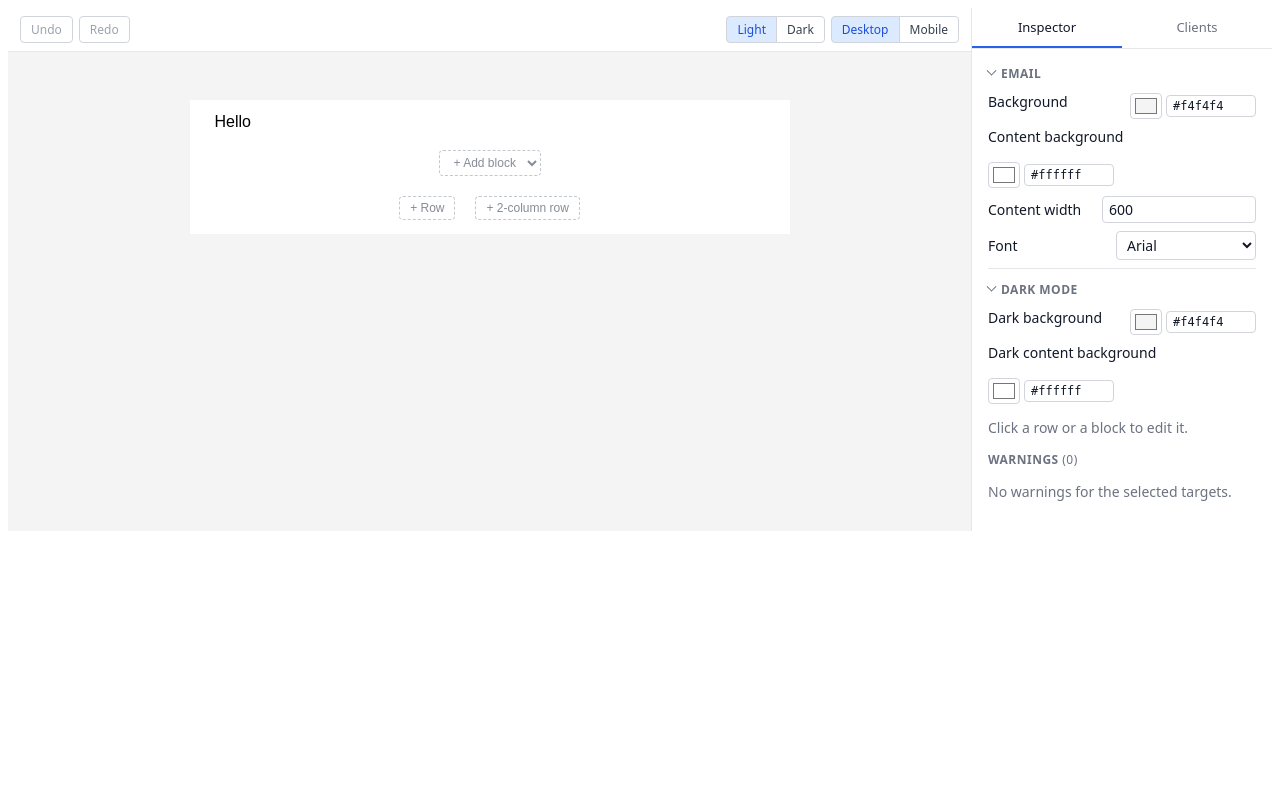
Test: <MailBlocks /> undo and redo › brings back a removed block with Ctrl+Z and removes it again with Ctrl+Shift+Z
The width and height of the screenshot is (1280, 800).
Click the text box "Hello".
click(233, 122)  # box [214,113,251,130]
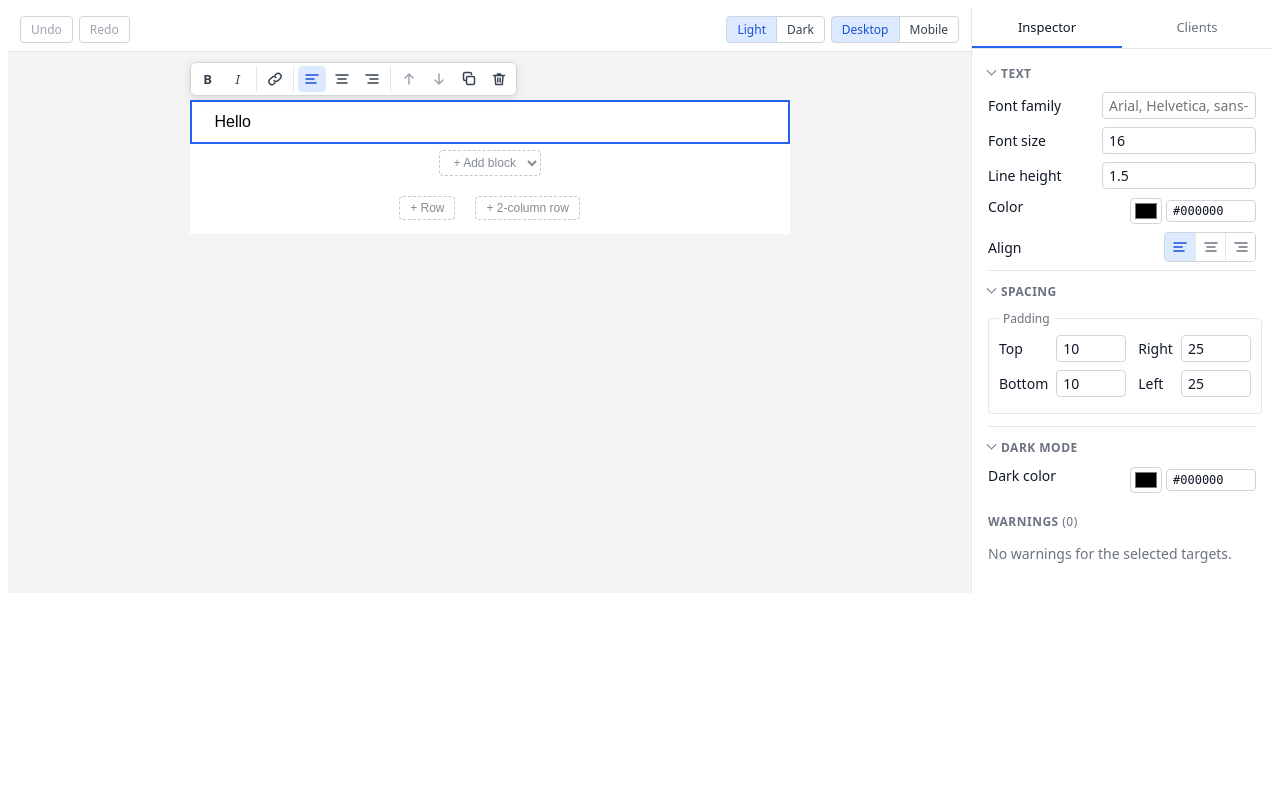
Click the button named "Remove block".
click(498, 79)  # box [484,66,512,92]
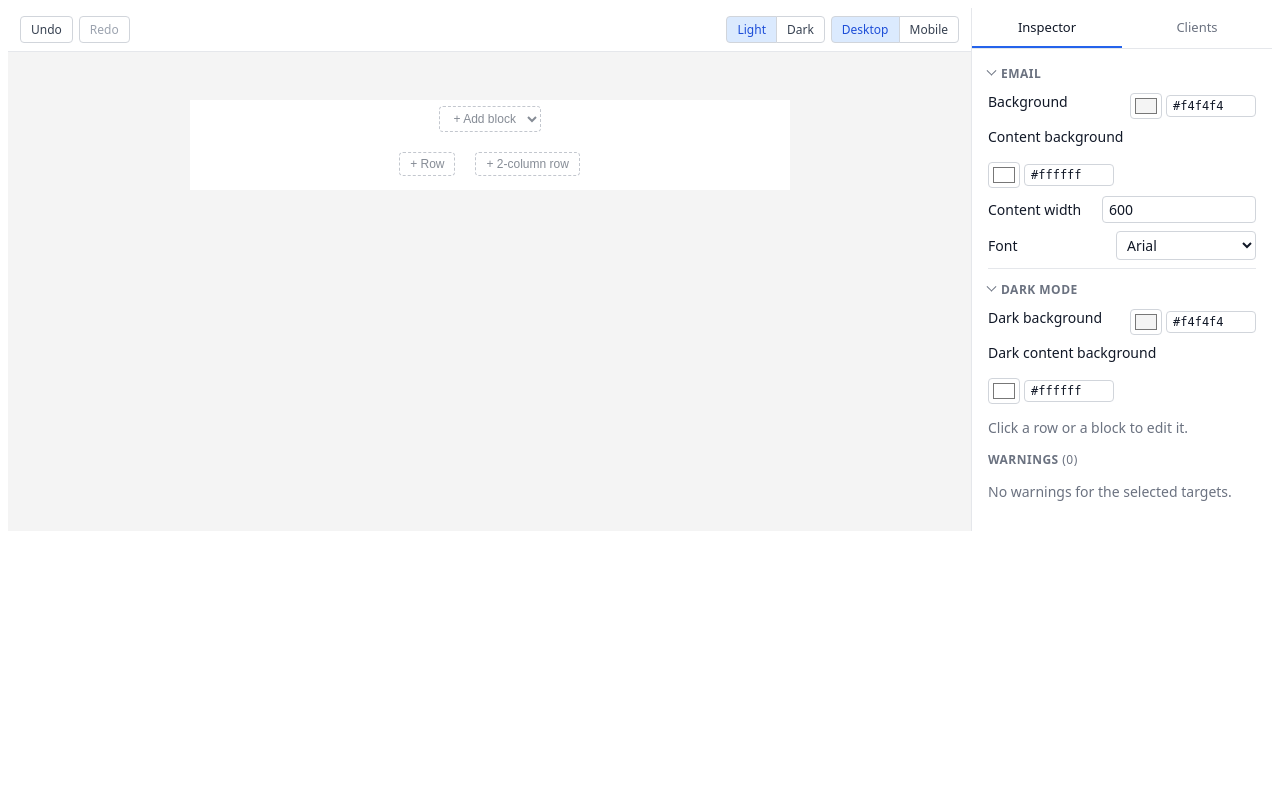
Check: the text box "Hello" is gone
Press z in the element with class "mb-editor"
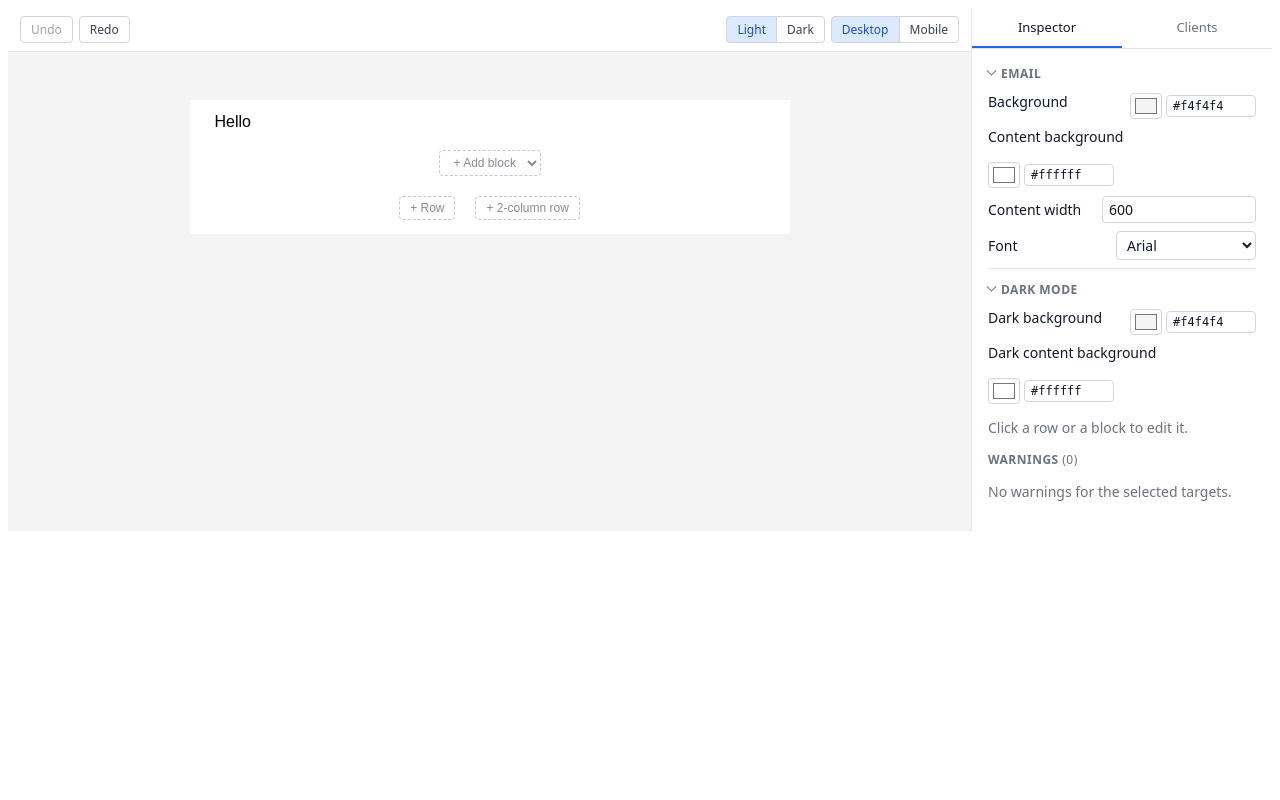
Check: the text box "Hello" is shown, box [214,113,251,130]
Press Z in the element with class "mb-editor"
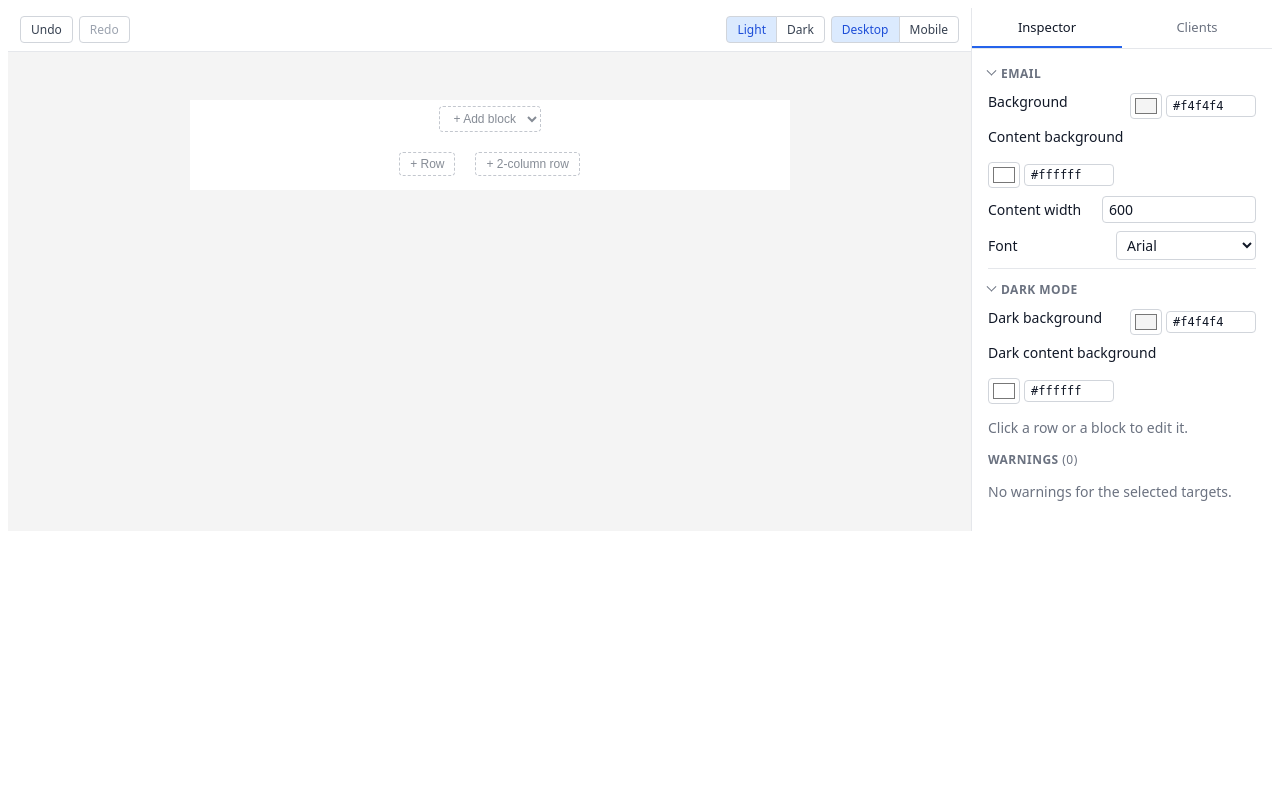
Check: the text box "Hello" is gone
